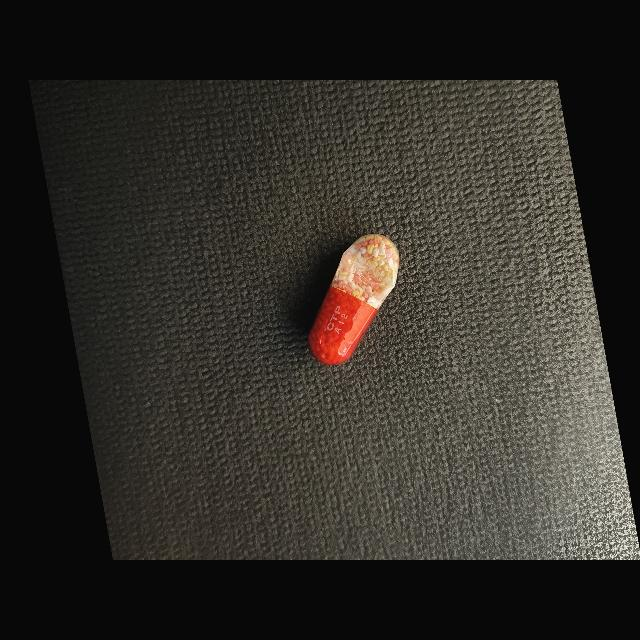Defective Capsule: (309, 234, 399, 365)
